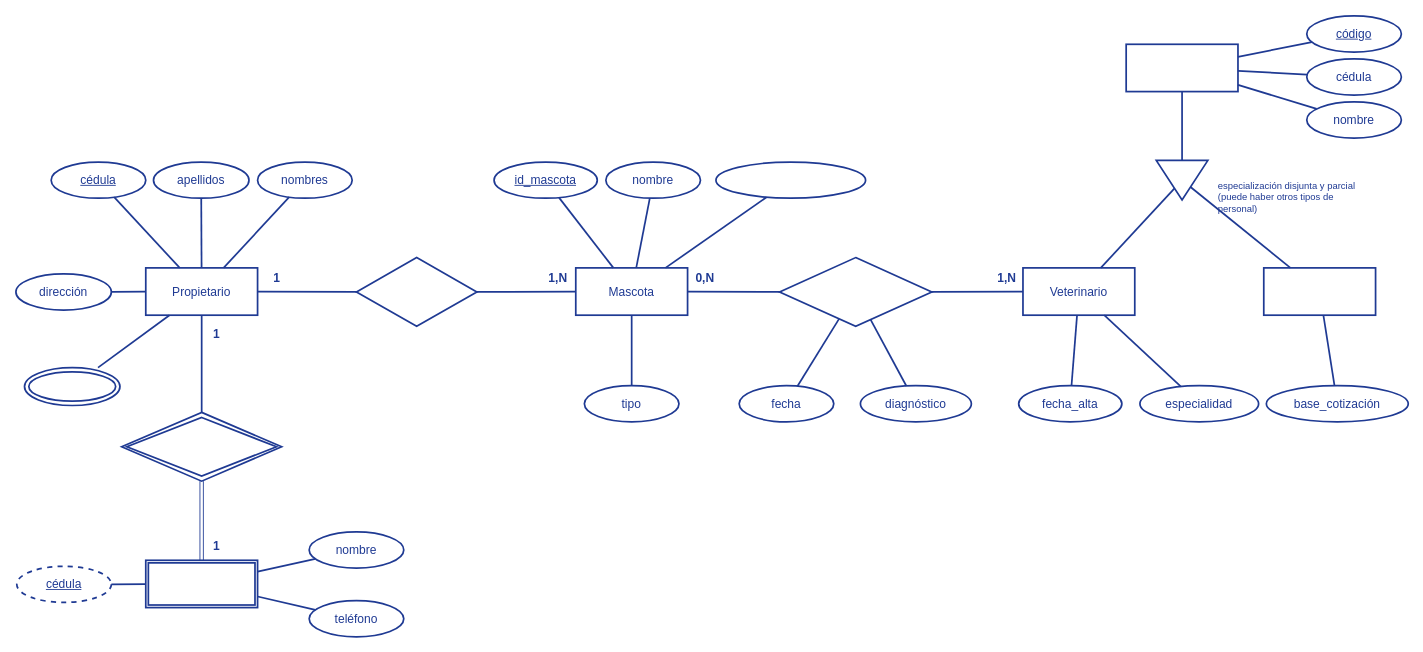
The diagram is 1423 pixels wide and 652 high, and some of its shapes have lost their labels. The shapes that lost their labels are listed below. From the top down, each one's box as (x1, y1, x2, y2) in pixels, then its label:
(1125, 43, 1238, 92): Personal
(715, 161, 866, 199): fecha_nacimiento
(1155, 159, 1208, 200): ISA
(355, 256, 477, 327): lleva
(778, 256, 932, 327): pasa consulta
(1262, 267, 1376, 316): Auxiliar
(23, 366, 120, 406): teléfonos
(120, 411, 282, 482): es contacto de
(144, 559, 258, 608): Familiar
